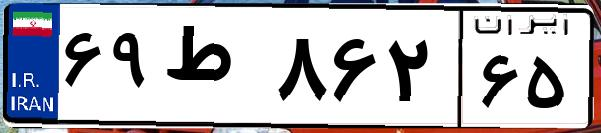2: (385, 28, 445, 110)
5: (525, 38, 570, 115)
6: (330, 28, 385, 110), (57, 26, 110, 100), (475, 38, 525, 113)
8: (270, 28, 330, 110)
9: (110, 28, 158, 98)
ط: (158, 20, 270, 120)
